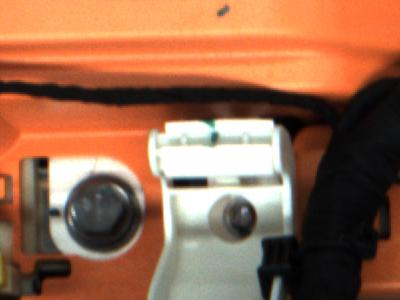nut_b: (59, 169, 142, 256)
